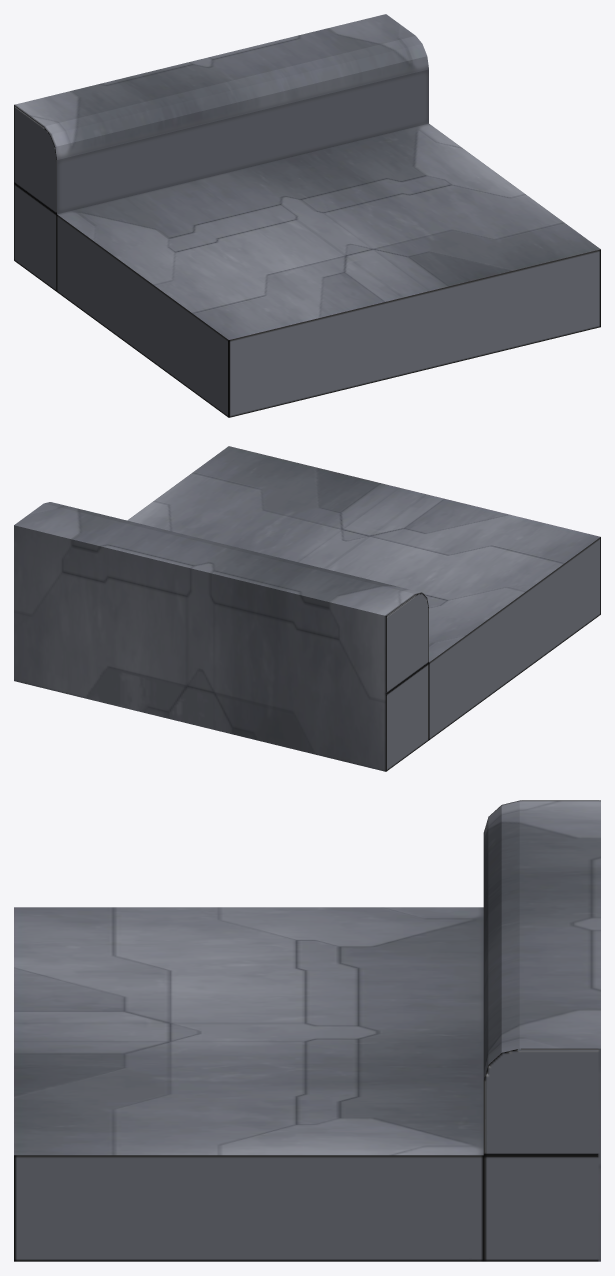
Rendered from bordures_droite.fbx.
3 views of the same model, one above another, from view 1: azimuth 30°, elevation 25°; view 2: azimuth 150°, elevation 25°; view 3: azimuth 270°, elevation 25° (orthographic). The views are drawn at different scales.
Parts seen in each view (by area): view 1: Cube; view 2: Cube; view 3: Cube.
Boxes of the visible parts, box(x1,y1,x2,y2) form: Cube: box(14, 14, 600, 417); Cube: box(14, 446, 600, 771); Cube: box(14, 800, 600, 1261).
Size of the model in its own units: 100 by 40.1 by 100.
